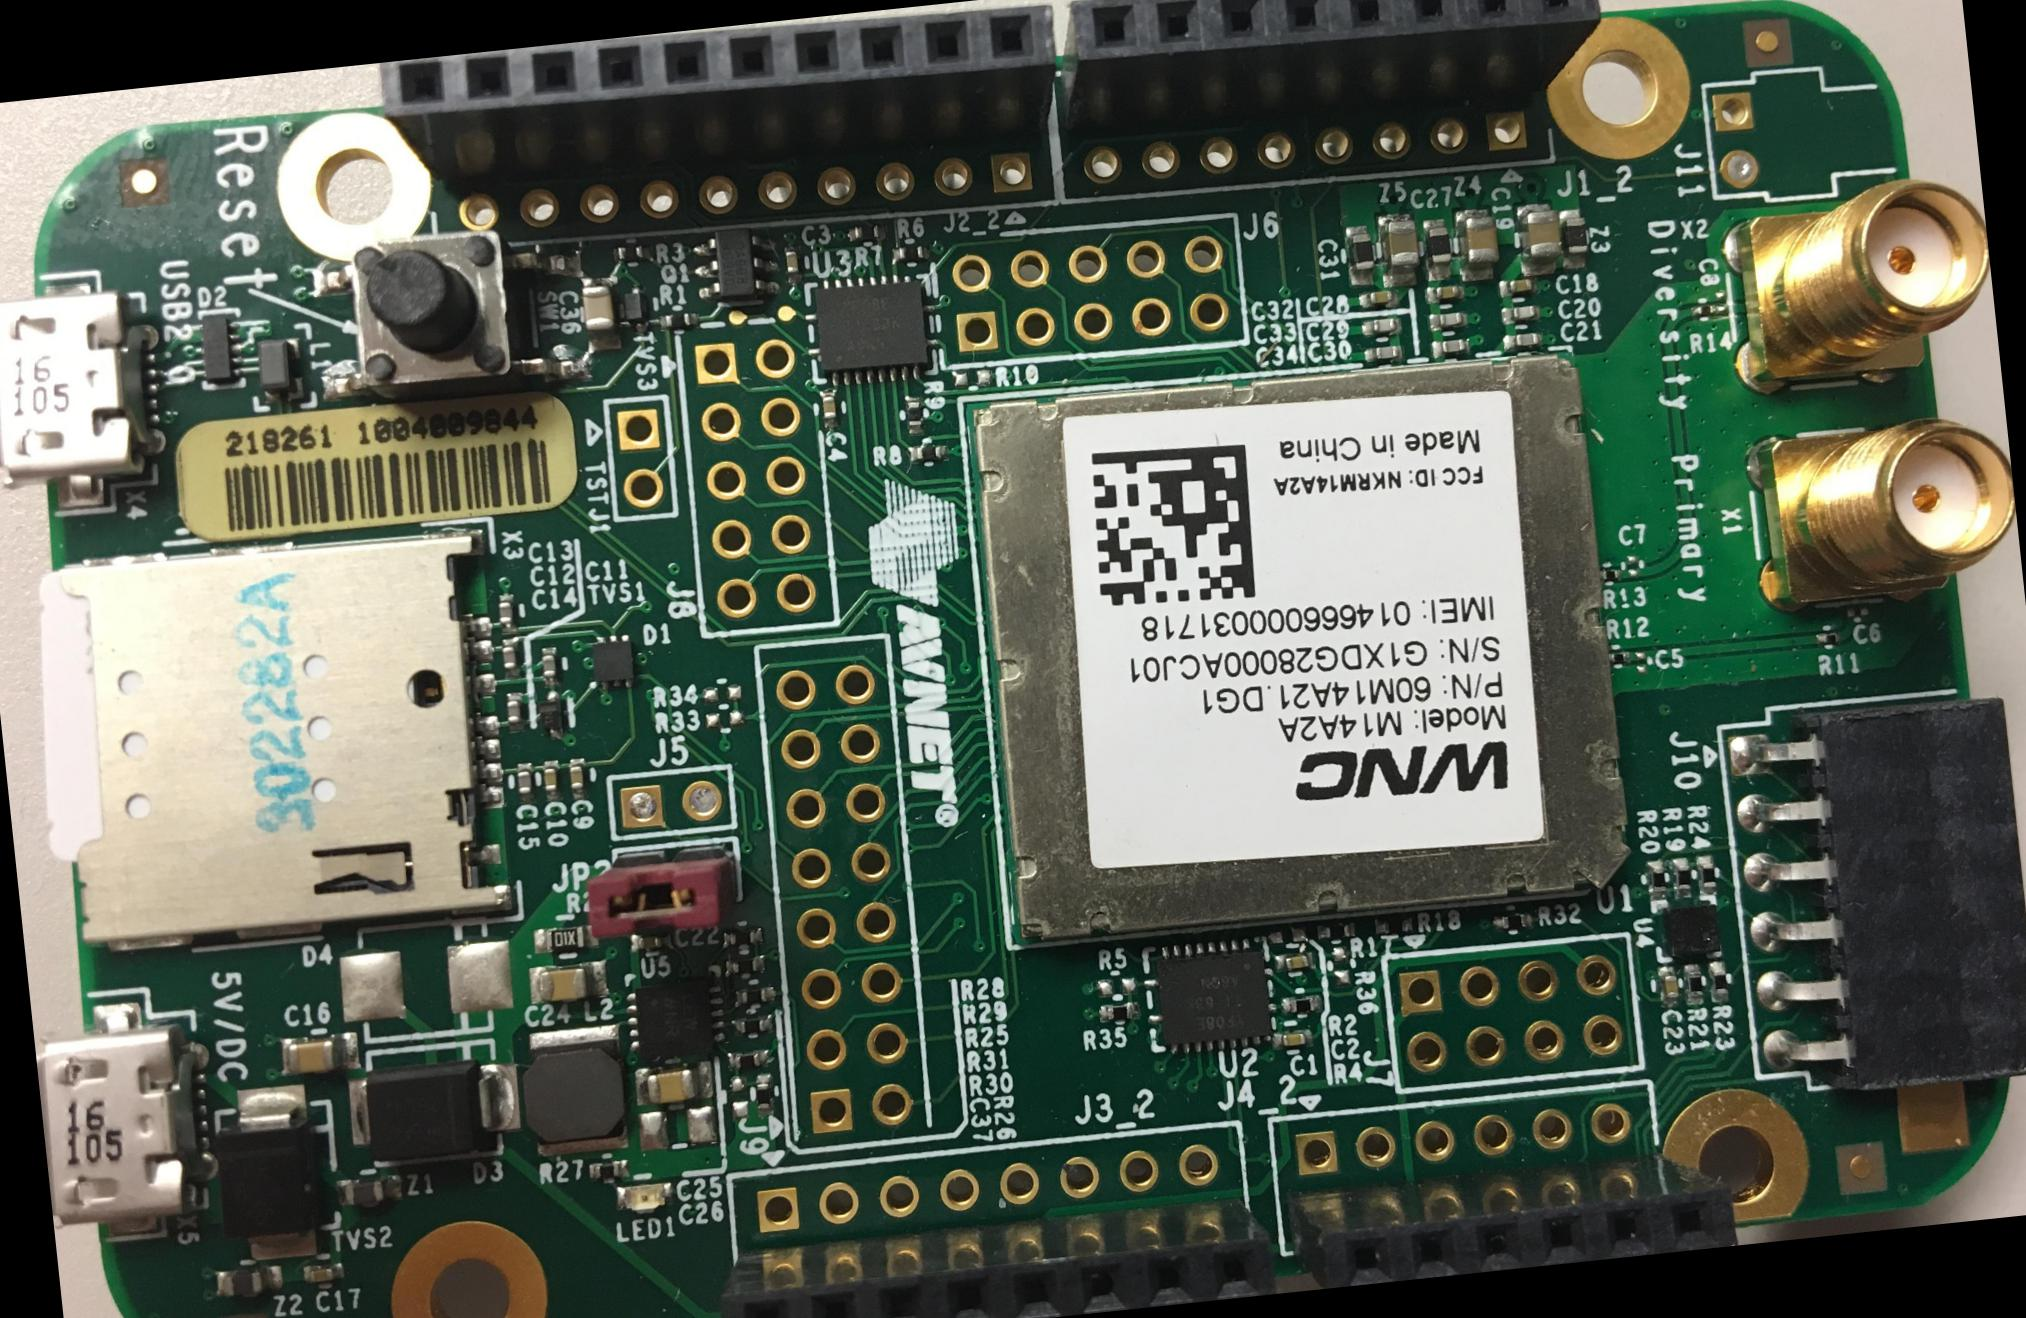Button: (307, 221, 591, 410)
Capacitor: (632, 1060, 718, 1107), (529, 959, 608, 1005), (577, 276, 623, 356), (279, 1032, 362, 1074), (1558, 208, 1592, 270), (1421, 217, 1452, 282), (1344, 224, 1375, 286), (1271, 948, 1319, 973), (493, 590, 520, 635), (536, 644, 561, 686), (540, 757, 566, 800), (504, 691, 527, 735), (628, 931, 673, 953), (512, 762, 536, 804), (1655, 967, 1680, 1007), (567, 756, 591, 796), (817, 390, 840, 429), (1503, 331, 1542, 354), (1357, 288, 1397, 310), (1274, 1029, 1311, 1052), (781, 244, 802, 285), (1499, 276, 1537, 298), (1500, 303, 1539, 325), (1431, 337, 1469, 359), (499, 635, 520, 674), (1424, 283, 1463, 304), (1361, 316, 1403, 335), (1428, 310, 1465, 331), (1363, 344, 1401, 363)
Connector: (21, 515, 521, 967), (411, 0, 1087, 258), (1711, 679, 2025, 1103), (1035, 0, 1613, 210), (724, 1117, 1276, 1317), (1264, 1073, 1738, 1293), (749, 633, 936, 1153), (1717, 171, 2001, 397), (1744, 410, 2023, 614), (672, 317, 839, 639), (927, 208, 1248, 370), (31, 986, 220, 1247), (1381, 928, 1644, 1094), (0, 264, 162, 520), (1698, 56, 1902, 208), (605, 763, 737, 840), (602, 393, 679, 522)
Diode: (344, 1036, 524, 1166), (214, 1095, 340, 1240), (694, 224, 781, 308), (193, 306, 244, 391), (589, 633, 635, 691), (535, 689, 574, 741)
IC: (955, 332, 1632, 950), (803, 272, 936, 387), (1143, 940, 1277, 1052), (625, 970, 724, 1058), (1651, 896, 1722, 959)
Inductor: (515, 1021, 628, 1159), (251, 322, 313, 410)
Jumper: (585, 837, 746, 933)
Led: (613, 1182, 675, 1213)
Pads: (338, 934, 520, 1026), (635, 1104, 721, 1153), (701, 676, 744, 708), (1326, 945, 1354, 986), (703, 708, 747, 734), (729, 1074, 752, 1119), (1097, 976, 1140, 998), (952, 368, 994, 390), (1711, 289, 1729, 314), (1632, 649, 1648, 676), (1624, 552, 1639, 577), (1847, 605, 1869, 618)
Resistor Network: (535, 924, 598, 956), (722, 950, 765, 983), (1264, 922, 1310, 949), (589, 1157, 632, 1185), (732, 984, 777, 1011), (1491, 906, 1533, 934), (729, 1014, 775, 1039), (750, 1073, 774, 1119), (1680, 964, 1706, 1007), (1694, 853, 1717, 897), (1706, 961, 1729, 1005), (1314, 918, 1356, 943), (1282, 992, 1323, 1017), (1373, 914, 1418, 936), (656, 311, 700, 334), (721, 925, 763, 948), (1646, 858, 1669, 900), (1670, 856, 1692, 899), (728, 1049, 769, 1072), (1100, 1001, 1139, 1023), (614, 245, 651, 267), (845, 223, 882, 245), (911, 441, 947, 463), (904, 396, 924, 431), (892, 244, 924, 266), (1815, 632, 1840, 648), (1607, 648, 1629, 664), (1598, 568, 1620, 583), (1695, 303, 1714, 317)
Unknown Unlabeled: (1455, 205, 1503, 285), (1375, 210, 1421, 288), (1515, 202, 1562, 276)
Zener Diode: (216, 1263, 284, 1302), (335, 1175, 403, 1207)
